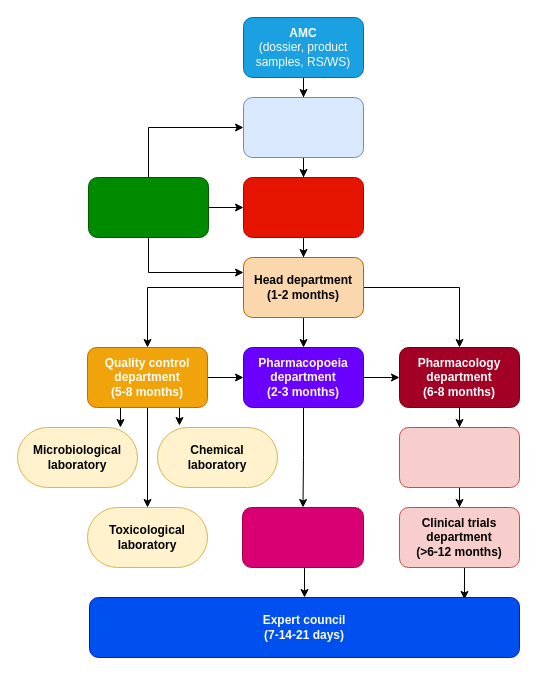
Image size: 537x675. Some labels were removed from this diagram. The shapes that lost their labels are listed below. From the top down, each one's centre as x and y in pixels, then its label:
At pixel 303 127: "Manager".
At pixel 148 207: "Authorization department (1-2 months)".
At pixel 303 207: "Drugs agency (20-25 days)".
At pixel 459 457: "Pharmacovigilance department".
At pixel 303 537: "GMP department".
